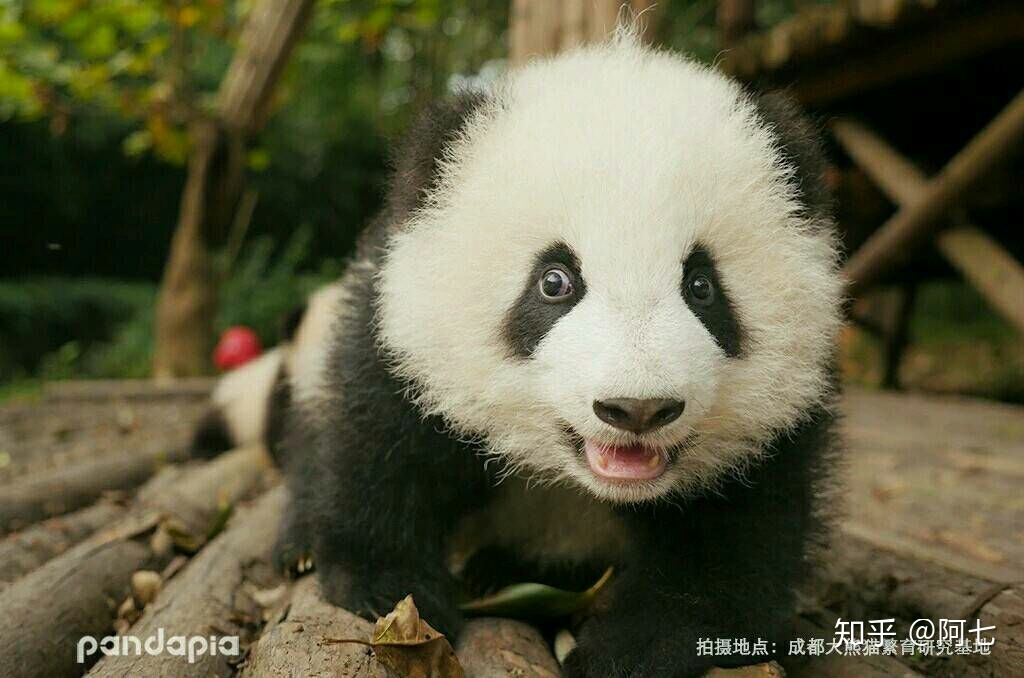panda: (255, 31, 877, 600)
